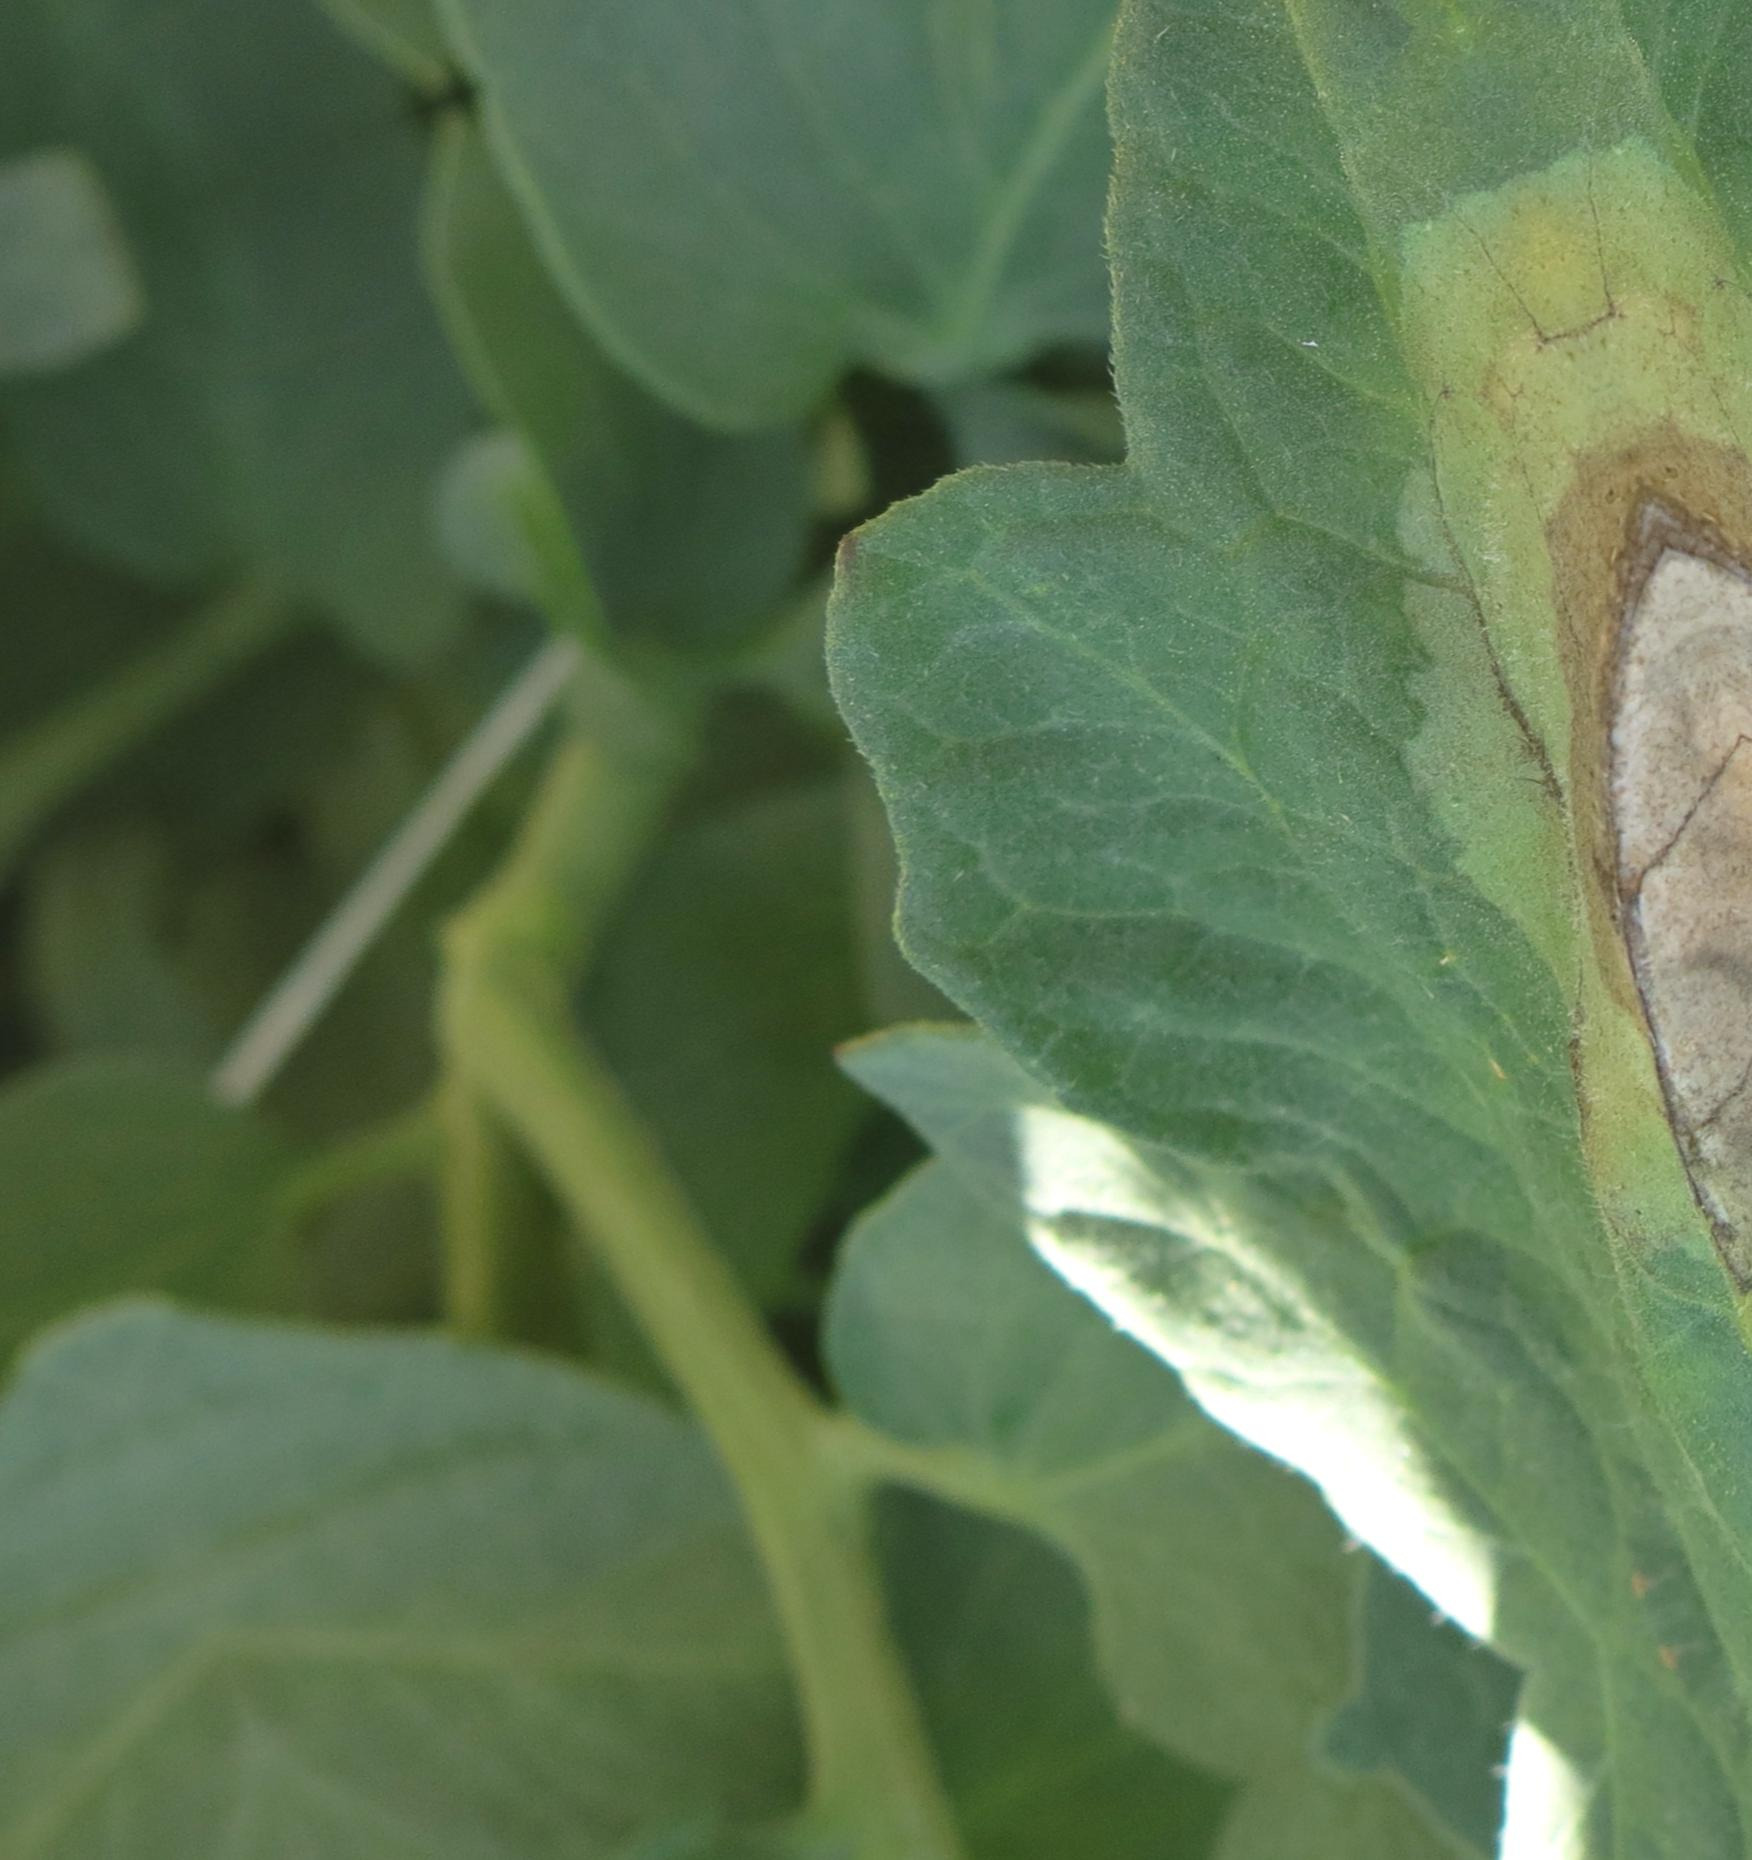Tomato leaf late blight: (357, 0, 1752, 1860)
